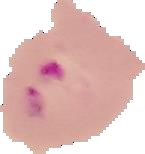parasitized: (20, 52, 78, 124)
